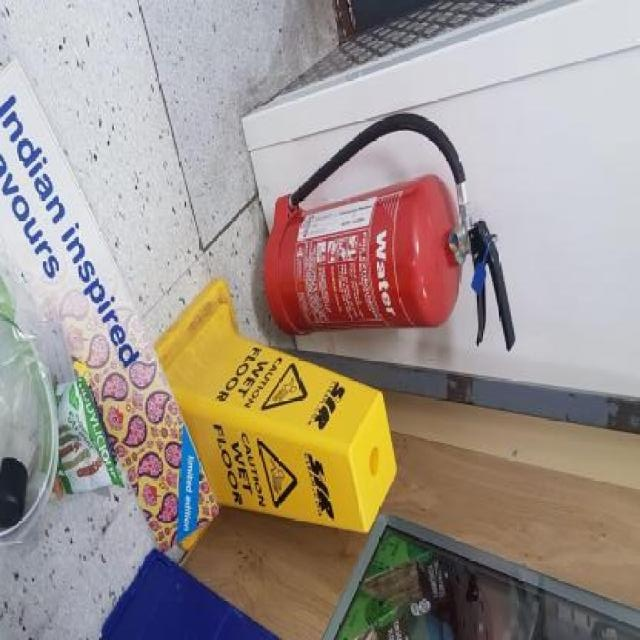fire extinguisher: (266, 114, 517, 354)
